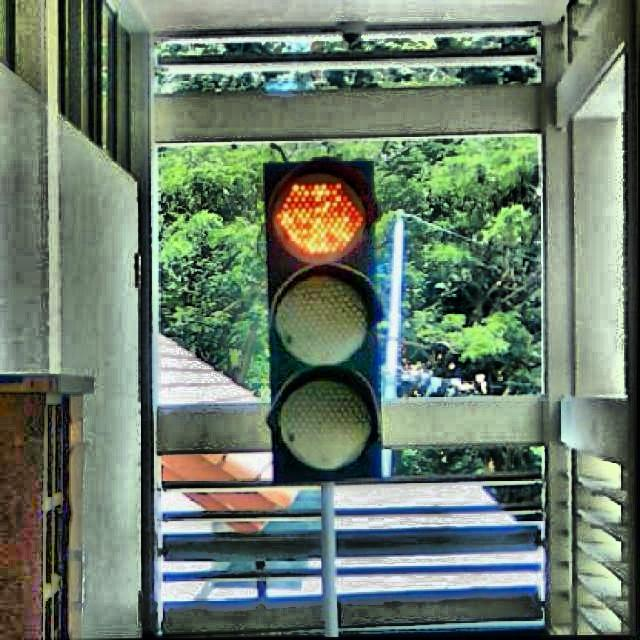red: (263, 162, 387, 479)
